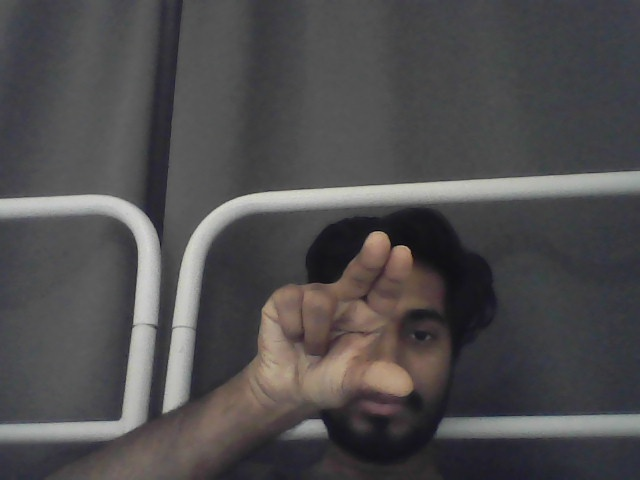no: (256, 230, 416, 420)
